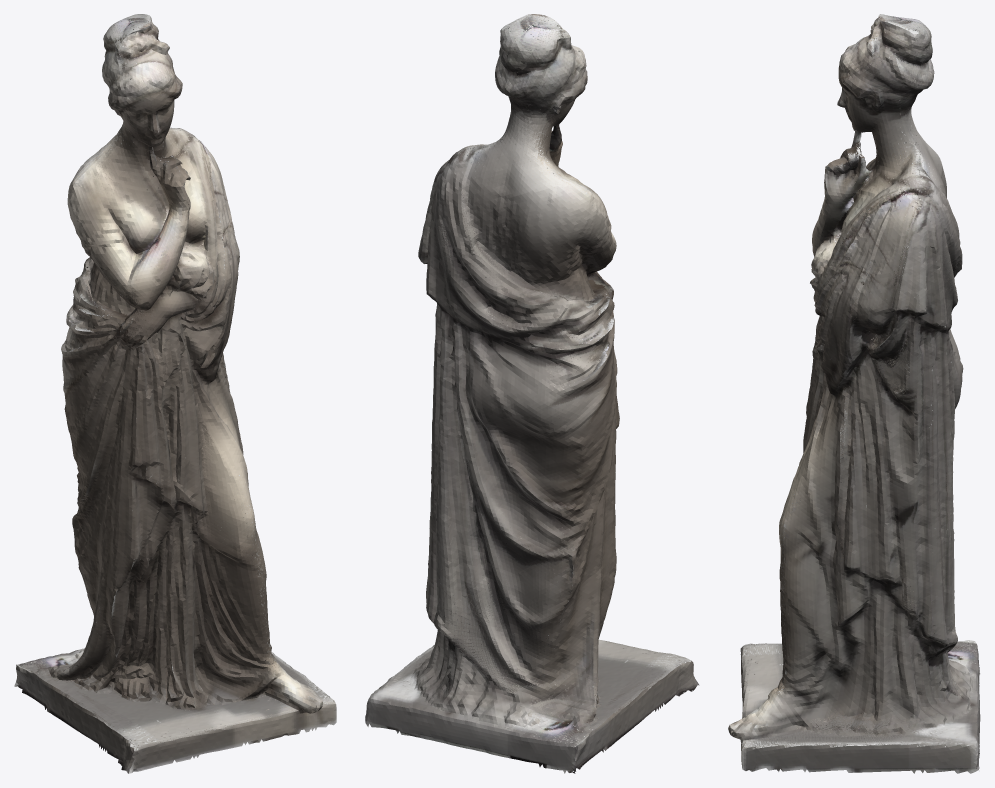
File: textured_syncmvd.glb
3 views of the same model, side by side, from view 1: azimuth 30°, elevation 25°; view 2: azimuth 150°, elevation 25°; view 3: azimuth 270°, elevation 25° (orthographic). The views are drawn at different scales.
Visible parts, largest first — view 1: Node; view 2: Node; view 3: Node.
Part boxes in pixels (left/top/right/bottom): Node: left=14, top=14, right=336, bottom=773; Node: left=365, top=14, right=699, bottom=773; Node: left=728, top=14, right=980, bottom=773.
Bounding box in the file's own units: 0.6459 × 2 × 0.6593.
1 material, 1 textured.
